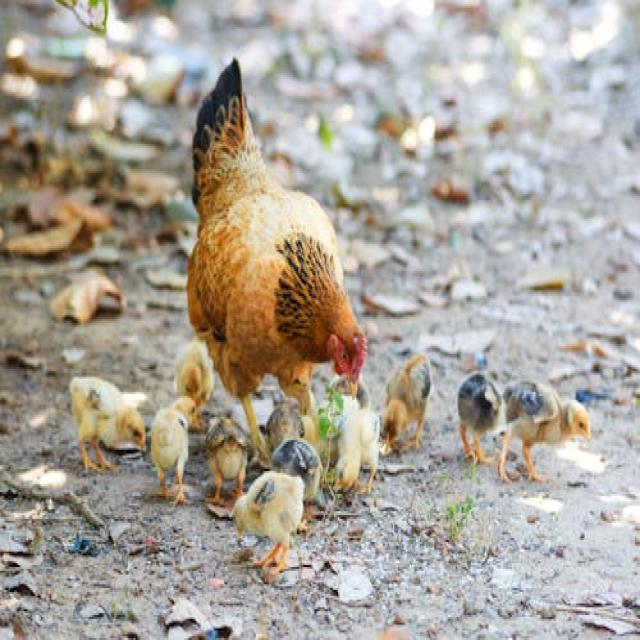Chicken: (188, 66, 389, 454)
